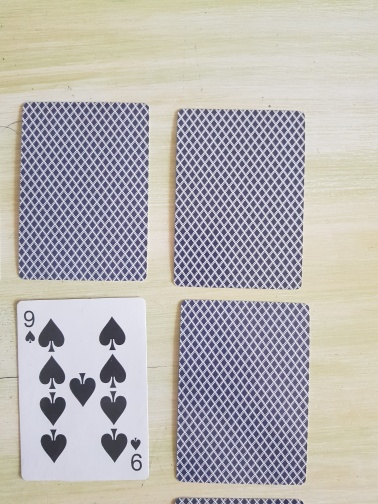nine: (15, 297, 150, 481)
